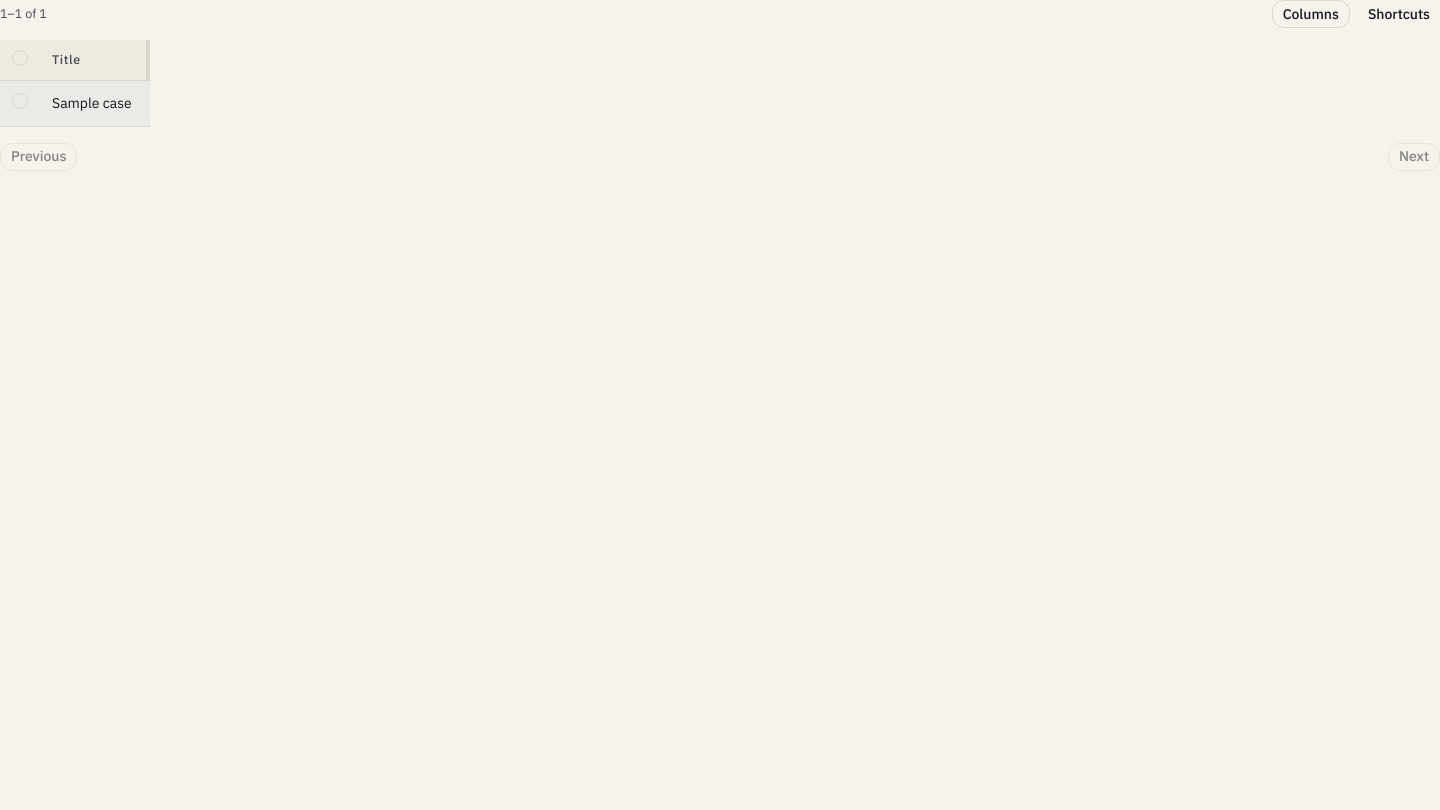
it: DataTable › lists shortcuts in the help dialog
Click the button "Shortcuts": (1399, 14) [1358,0,1439,28]
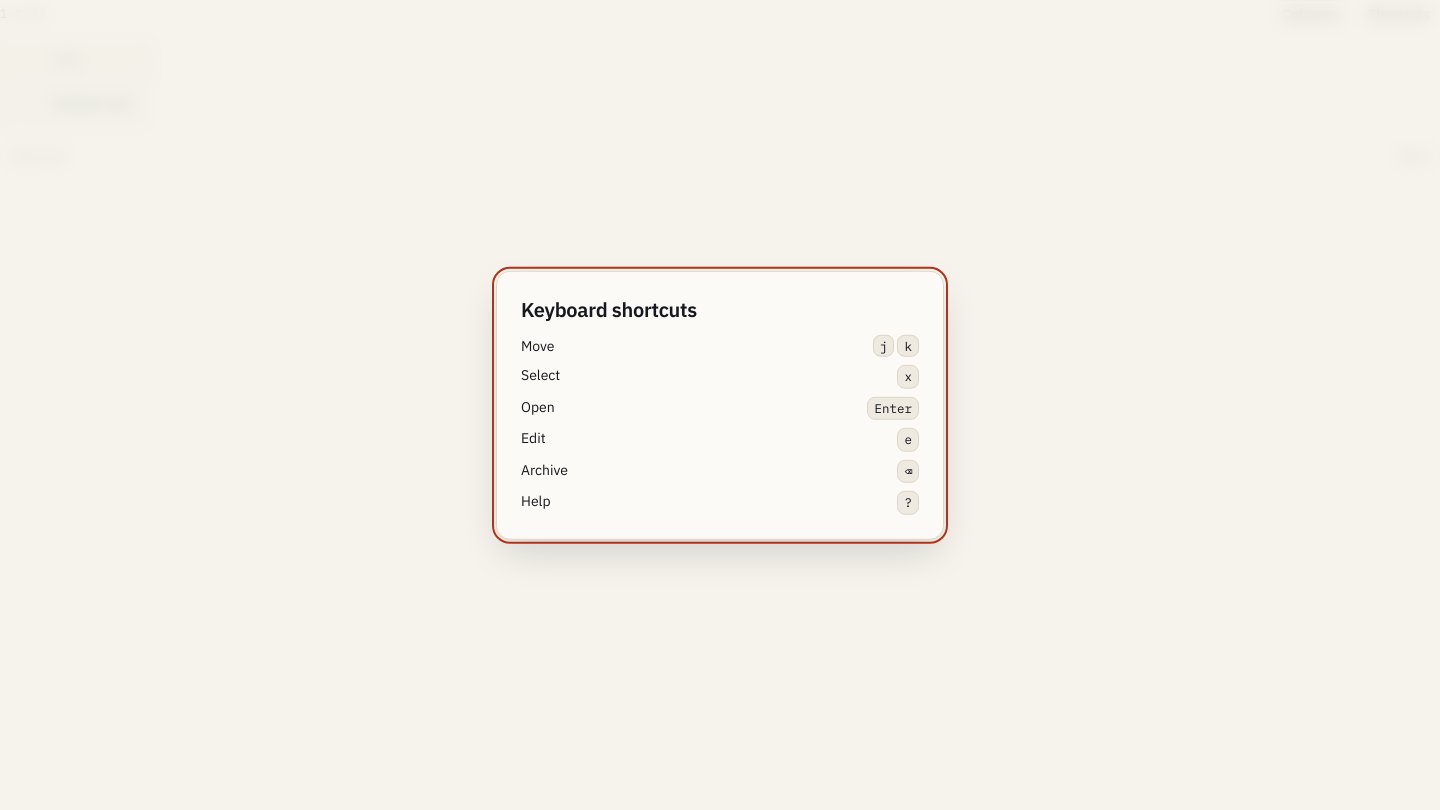
Expected: the heading "Keyboard shortcuts" is shown, [521,296,697,323]
Expected: the text "Move" is shown, [521,336,555,357]
Expected: the text "Archive" is shown, [521,459,568,483]
